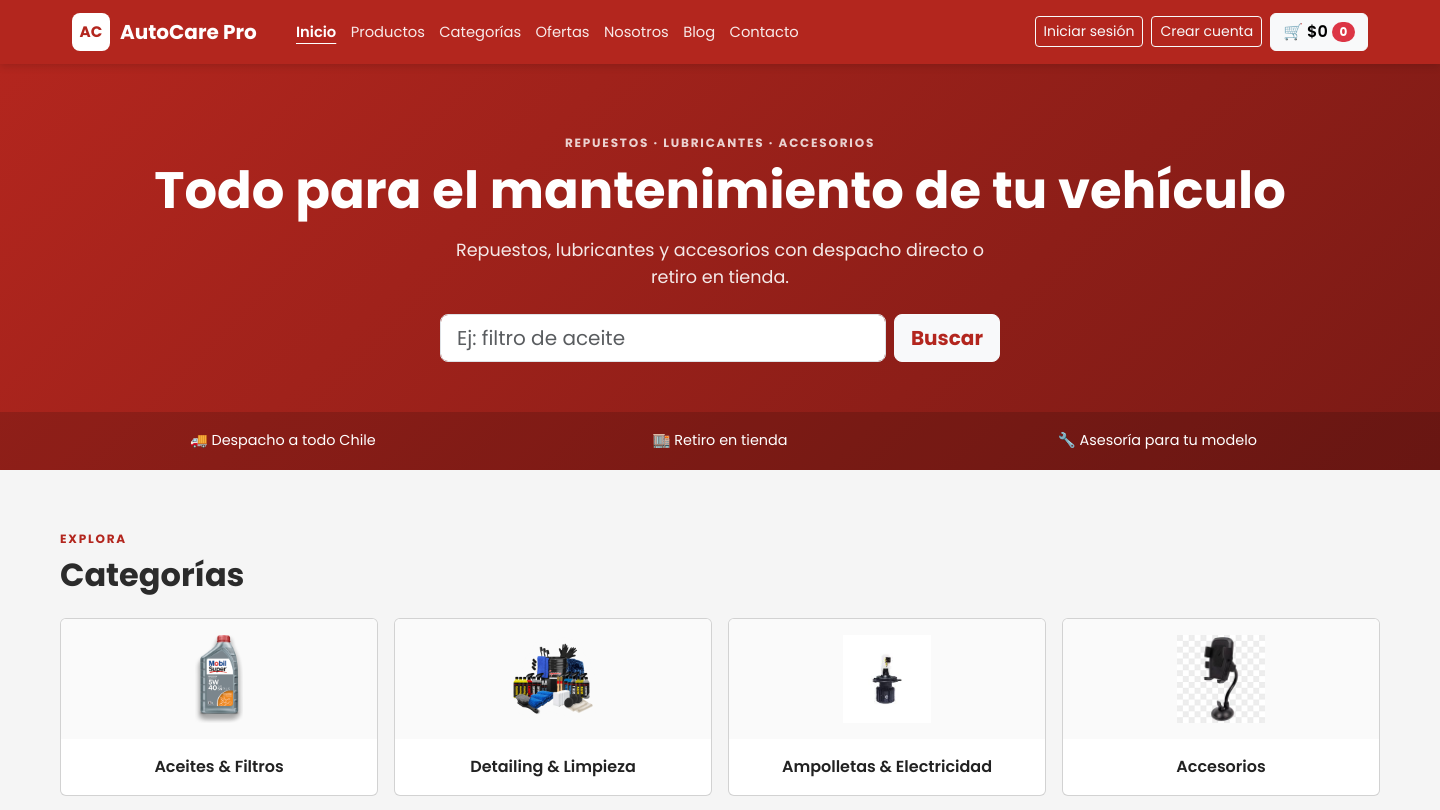
Test: Navegación y vistas de la tienda › Home → buscar lleva a /productos con el filtro aplicado
This screenshot has width=1440, height=810.
Type "ampolleta" into the search field named "Buscar producto o repuesto" at (663, 338), box [440,314,886,362]
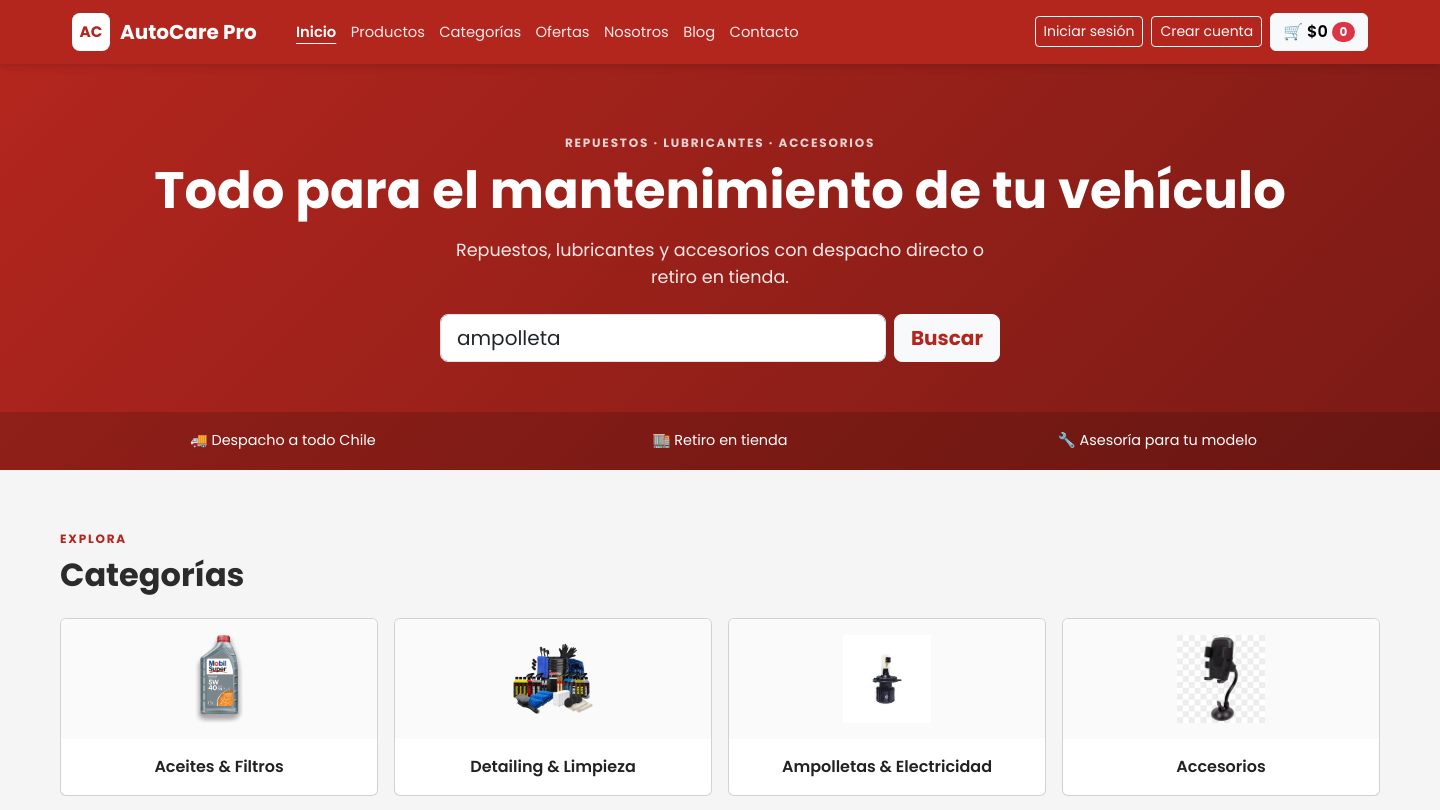
Click the button "Buscar" at (947, 338), box [894,314,1000,362]
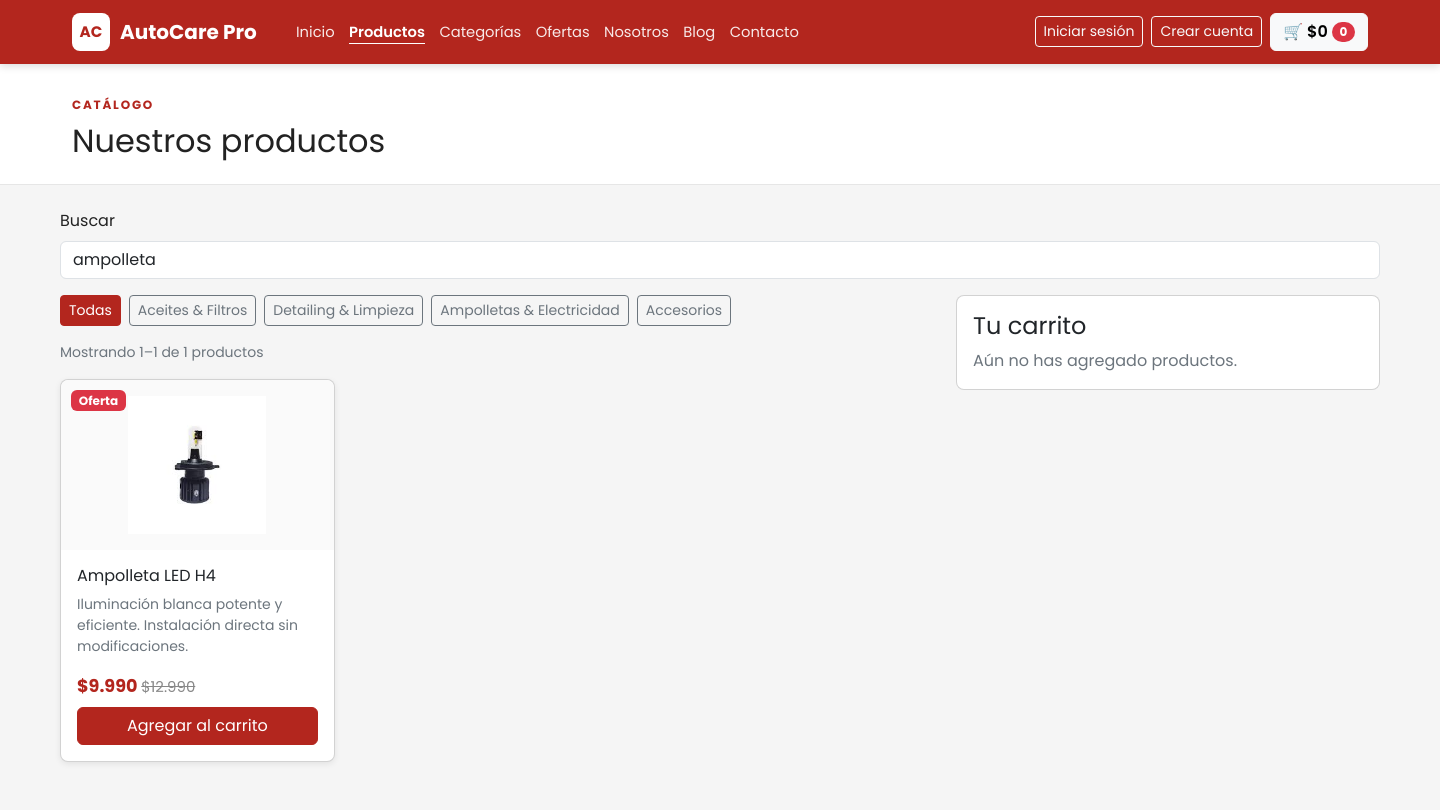
Expected: the heading "Ampolleta LED H4" is shown, [77,564,216,587]
Result: the heading "Nuestros productos" is shown at [72,118,385,163]
Result: the search field labelled "Buscar" holds "ampolleta" at [60,241,1380,279]
